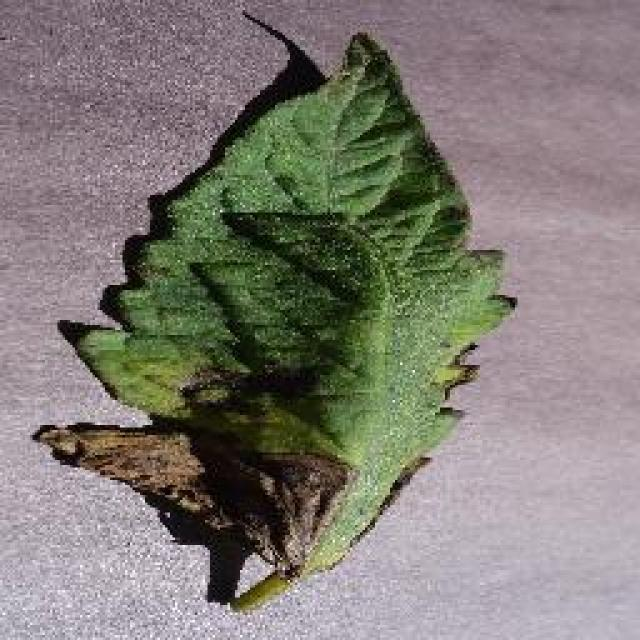leaf blight: (31, 24, 517, 614)
